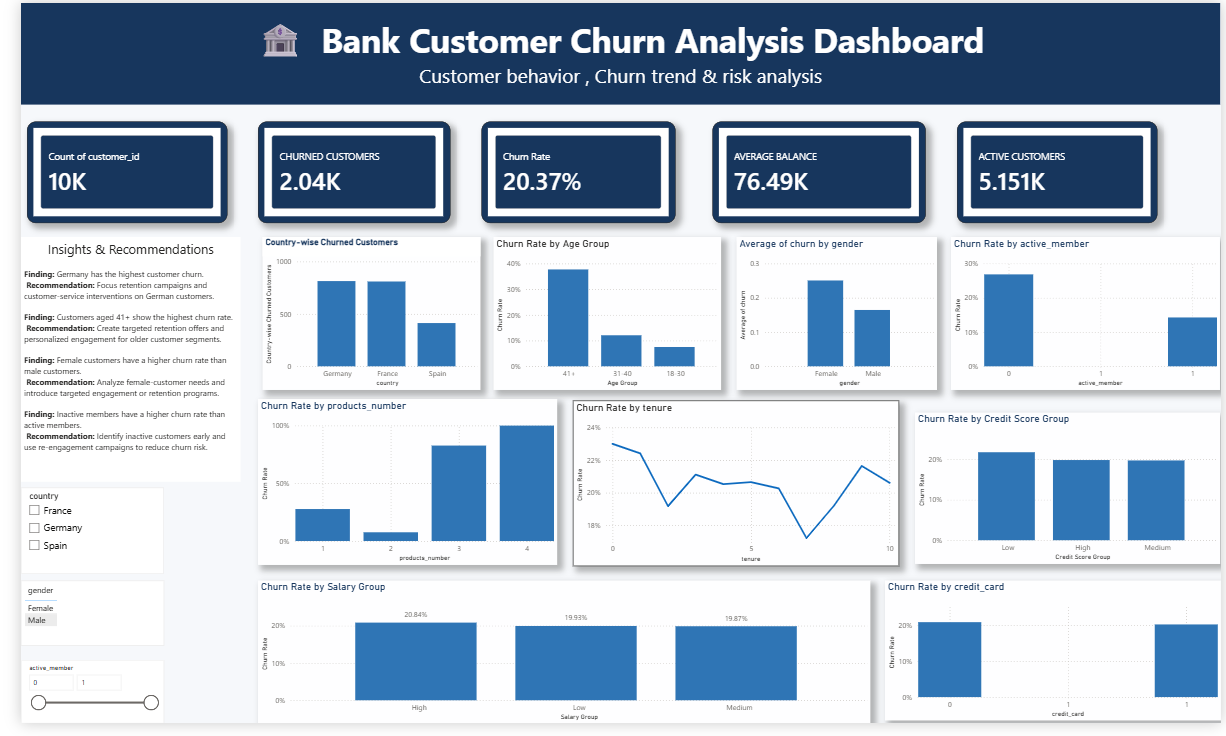

What the dashboard file says about the page in this screenshot:
{"tool":"powerbi","page":{"name":"Executive Dashboard1","canvas":[2000,1200],"ordinal":0},"visuals":[{"type":"clusteredColumnChart","title":"Country-wise Churned Customers ","fields":{"Category":["Bank_Customer_Churn_Analysis_FINAL;.country"],"Y":["Sum(Bank_Customer_Churn_Analysis_FINAL;.churn)"]},"box":[403.4,389.7,363.2,254.5],"z":5000},{"type":"cardVisual","fields":{"Data":["CountNonNull(Bank_Customer_Churn_Analysis_FINAL;.customer_id)"]},"box":[8.8,197.1,334,169.7],"z":5500},{"type":"cardVisual","fields":{"Data":["Sum(Bank_Customer_Churn_Analysis_FINAL;.churn)"]},"box":[395.9,197.1,320.8,169.7],"z":5750},{"type":"cardVisual","fields":{"Data":["Bank_Customer_Churn_Analysis_FINAL;.Churn Rate"]},"box":[767,197.1,323.4,169.7],"z":5875},{"type":"cardVisual","fields":{"Data":["Avg(Bank_Customer_Churn_Analysis_FINAL;.balance)"]},"box":[1151.4,197.1,355.2,169.7],"z":5937},{"type":"cardVisual","fields":{"Data":["CountNonNull(Bank_Customer_Churn_Analysis_FINAL;.active_member)"]},"box":[1559.7,197.1,334,169.7],"z":5968},{"type":"clusteredColumnChart","fields":{"Category":["Bank_Customer_Churn_Analysis_FINAL;.gender"],"Y":["Avg(Bank_Customer_Churn_Analysis_FINAL;.churn)"]},"box":[1193,389.7,334,254.5],"z":6000},{"type":"clusteredColumnChart","fields":{"Category":["Bank_Customer_Churn_Analysis_FINAL;.Age Group"],"Y":["Bank_Customer_Churn_Analysis_FINAL;.Churn Rate"]},"box":[787.5,389.1,379.1,254.5],"z":7000},{"type":"clusteredColumnChart","fields":{"Category":["Bank_Customer_Churn_Analysis_FINAL;.active_member"],"Y":["Bank_Customer_Churn_Analysis_FINAL;.Churn Rate"]},"box":[1550.8,389.7,448,254.5],"z":8000},{"type":"slicer","fields":{"Values":["Bank_Customer_Churn_Analysis_FINAL;.country"]},"box":[0,808,238,144],"z":9000},{"type":"slicer","fields":{"Values":["Bank_Customer_Churn_Analysis_FINAL;.active_member"]},"box":[0,1094.9,238.6,106],"z":10000},{"type":"tableEx","fields":{"Values":["Bank_Customer_Churn_Analysis_FINAL;.gender"]},"box":[0,962.3,238.6,108.7],"z":11000},{"type":"textbox","box":[0,0,1998.9,169.7],"z":12000},{"type":"textbox","box":[0,389.7,365.8,408.3],"z":14000},{"type":"clusteredColumnChart","fields":{"Category":["Bank_Customer_Churn_Analysis_FINAL;.products_number"],"Y":["Bank_Customer_Churn_Analysis_FINAL;.Churn Rate"]},"box":[395,660.1,498.4,275.7],"z":15000},{"type":"clusteredColumnChart","fields":{"Category":["Bank_Customer_Churn_Analysis_FINAL;.credit_card"],"Y":["Bank_Customer_Churn_Analysis_FINAL;.Churn Rate"]},"box":[1439.5,962.3,559.4,233.3],"z":16000},{"type":"lineChart","fields":{"Category":["Bank_Customer_Churn_Analysis_FINAL;.tenure"],"Y":["Bank_Customer_Churn_Analysis_FINAL;.Churn Rate"]},"box":[919.9,662.8,543.5,275.7],"z":17000},{"type":"clusteredColumnChart","fields":{"Category":["Bank_Customer_Churn_Analysis_FINAL;.Credit Score Group"],"Y":["Bank_Customer_Churn_Analysis_FINAL;.Churn Rate"]},"box":[1489.9,681.3,509,251.8],"z":18000},{"type":"clusteredColumnChart","fields":{"Category":["Bank_Customer_Churn_Analysis_FINAL;.Salary Group"],"Y":["Bank_Customer_Churn_Analysis_FINAL;.Churn Rate"]},"box":[395,962.3,1020.6,238.6],"z":19000}]}

Visuals, with their boxes in screenshot pixels (x1, y1, x2, y2), scaled from the page's 2000x1200 canvas onto the 1226x736 screenshot:
"Country-wise Churned Customers " clusteredColumnChart: crop(247, 239, 470, 395)
cardVisual - CountNonNull(Bank_Customer_Churn_Analysis_FINAL;.customer_id): crop(5, 121, 210, 225)
cardVisual - Sum(Bank_Customer_Churn_Analysis_FINAL;.churn): crop(243, 121, 439, 225)
cardVisual - Bank_Customer_Churn_Analysis_FINAL;.Churn Rate: crop(470, 121, 668, 225)
cardVisual - Avg(Bank_Customer_Churn_Analysis_FINAL;.balance): crop(706, 121, 924, 225)
cardVisual - CountNonNull(Bank_Customer_Churn_Analysis_FINAL;.active_member): crop(956, 121, 1161, 225)
clusteredColumnChart - Bank_Customer_Churn_Analysis_FINAL;.gender x Avg(Bank_Customer_Churn_Analysis_FINAL;.churn): crop(731, 239, 936, 395)
clusteredColumnChart - Bank_Customer_Churn_Analysis_FINAL;.Age Group x Bank_Customer_Churn_Analysis_FINAL;.Churn Rate: crop(483, 239, 715, 395)
clusteredColumnChart - Bank_Customer_Churn_Analysis_FINAL;.active_member x Bank_Customer_Churn_Analysis_FINAL;.Churn Rate: crop(951, 239, 1225, 395)
slicer - Bank_Customer_Churn_Analysis_FINAL;.country: crop(0, 496, 146, 584)
slicer - Bank_Customer_Churn_Analysis_FINAL;.active_member: crop(0, 672, 146, 735)
tableEx - Bank_Customer_Churn_Analysis_FINAL;.gender: crop(0, 590, 146, 657)
textbox: crop(0, 0, 1225, 104)
textbox: crop(0, 239, 224, 489)
clusteredColumnChart - Bank_Customer_Churn_Analysis_FINAL;.products_number x Bank_Customer_Churn_Analysis_FINAL;.Churn Rate: crop(242, 405, 548, 574)
clusteredColumnChart - Bank_Customer_Churn_Analysis_FINAL;.credit_card x Bank_Customer_Churn_Analysis_FINAL;.Churn Rate: crop(882, 590, 1225, 733)
lineChart - Bank_Customer_Churn_Analysis_FINAL;.tenure x Bank_Customer_Churn_Analysis_FINAL;.Churn Rate: crop(564, 407, 897, 576)
clusteredColumnChart - Bank_Customer_Churn_Analysis_FINAL;.Credit Score Group x Bank_Customer_Churn_Analysis_FINAL;.Churn Rate: crop(913, 418, 1225, 572)
clusteredColumnChart - Bank_Customer_Churn_Analysis_FINAL;.Salary Group x Bank_Customer_Churn_Analysis_FINAL;.Churn Rate: crop(242, 590, 868, 735)
